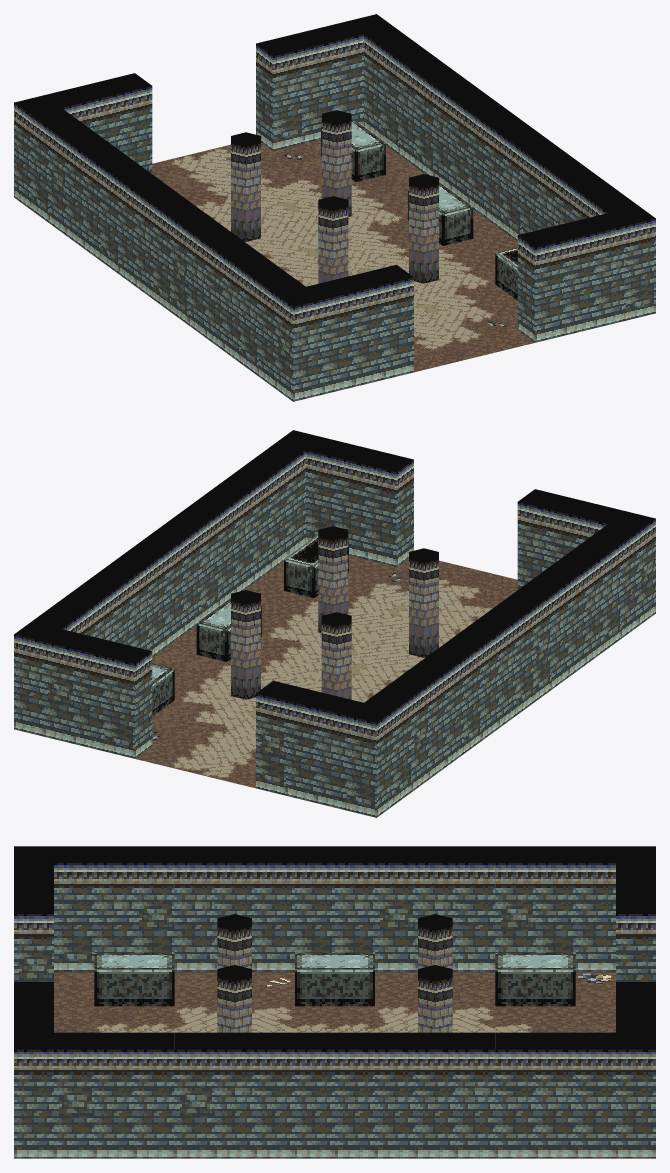
Rendered from room-sn-col.gltf.
3 views of the same model, one above another, from view 1: azimuth 30°, elevation 25°; view 2: azimuth 150°, elevation 25°; view 3: azimuth 270°, elevation 25° (orthographic). The views are drawn at different scales.
Visible parts, largest first — view 1: room-sn-col; view 2: room-sn-col; view 3: room-sn-col.
Boxes of the visible parts, <box> form: room-sn-col: <box>14,14,655,401</box>; room-sn-col: <box>14,430,655,817</box>; room-sn-col: <box>14,846,655,1158</box>.
Bounding box in the file's own units: 12 × 3 × 16.
Materials: 1 (1 with a texture image).
